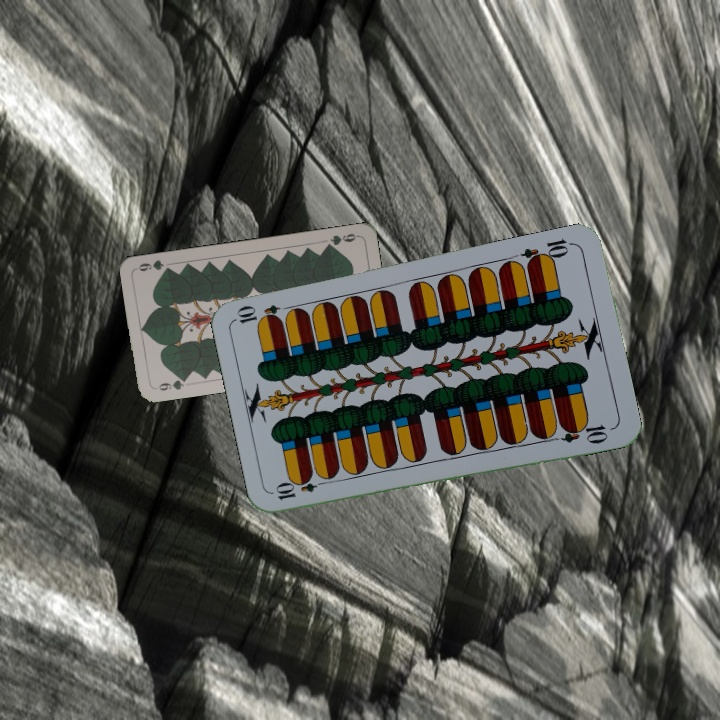E10: (518, 235, 576, 269), (271, 474, 331, 503)
G9: (321, 229, 361, 251), (151, 373, 191, 393)
